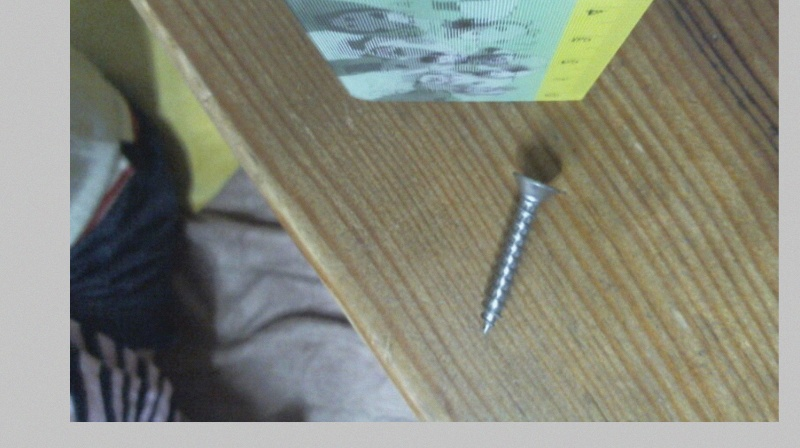S001: (474, 170, 566, 336)
